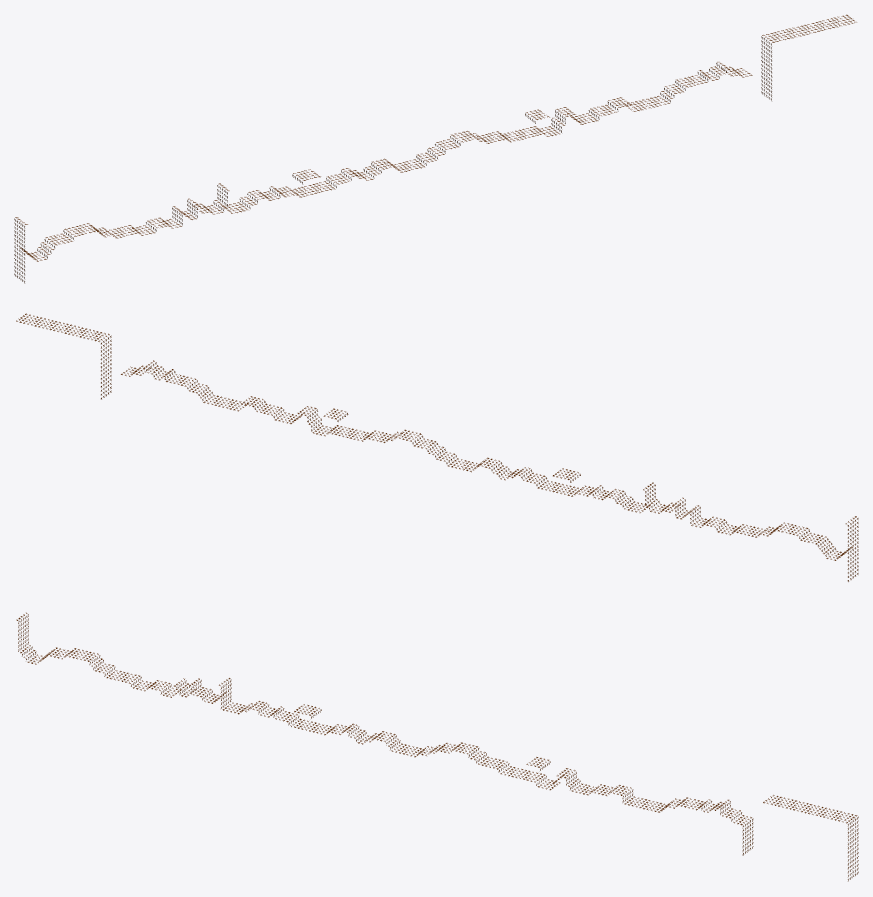
File: Luna2Rachadura08.glb
3 renders of one model, top to bottom at view 1: azimuth 30°, elevation 25°; view 2: azimuth 150°, elevation 25°; view 3: azimuth 330°, elevation 25°, orthographic.
Visible parts, largest first — view 1: Setor_1, Setor_4, Setor_2, Setor_6, Setor_5, Setor_3, Setor_0; view 2: Setor_1, Setor_4, Setor_2, Setor_6, Setor_5, Setor_3, Setor_0; view 3: Setor_6, Setor_0, Setor_1, Setor_4, Setor_2, Setor_5, Setor_3.
Part boxes in pixels (<box>): Setor_1: <box>136,183,264,234</box>; Setor_4: <box>496,99,624,142</box>; Setor_2: <box>256,161,384,200</box>; Setor_6: <box>736,14,856,100</box>; Setor_5: <box>616,62,744,111</box>; Setor_3: <box>376,131,504,172</box>; Setor_0: <box>15,217,143,261</box>; Setor_1: <box>609,482,736,534</box>; Setor_4: <box>249,398,375,441</box>; Setor_2: <box>488,460,616,500</box>; Setor_6: <box>16,313,136,399</box>; Setor_5: <box>129,360,255,411</box>; Setor_3: <box>368,429,496,472</box>; Setor_0: <box>729,516,856,560</box>; Setor_6: <box>737,795,858,881</box>; Setor_0: <box>16,612,143,688</box>; Setor_1: <box>136,678,264,714</box>; Setor_4: <box>496,757,624,795</box>; Setor_2: <box>256,702,384,744</box>; Setor_5: <box>617,786,744,823</box>; Setor_3: <box>377,732,503,768</box>.
Bounding box in the file's own units: 231 × 15.6 × 5.6.
Materials: 1 (1 with a texture image).
